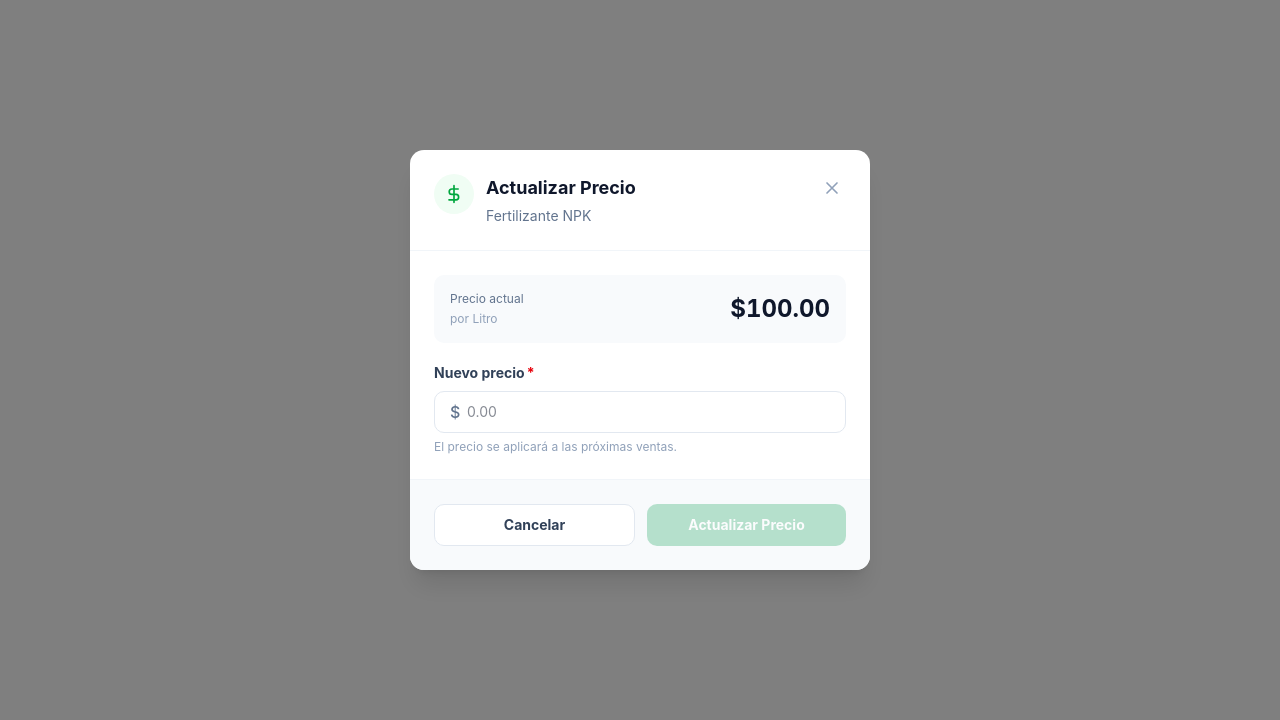
Scenario: NuevoPrecioModal › shows a price increase summary
In the number field: {"x": 640, "y": 412} top-left (434, 391), bottom-right (846, 433), type "150"
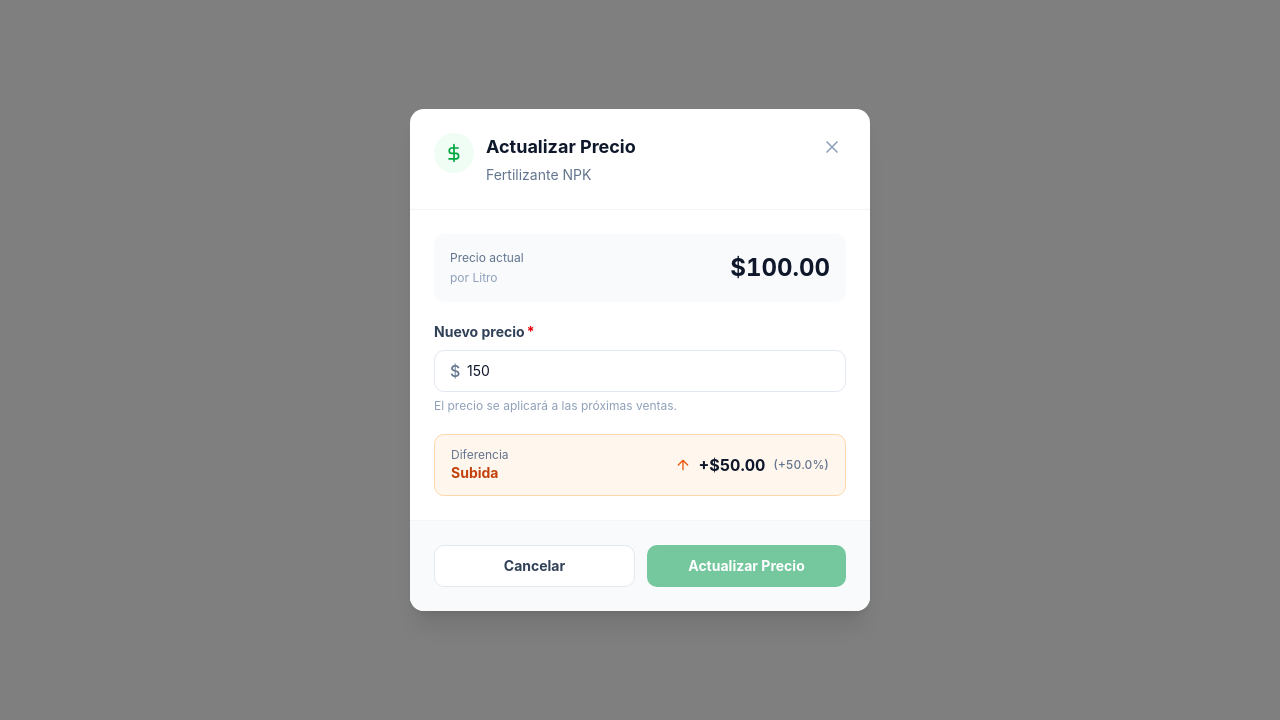
Expected: the text "Subida" is shown, top-left (451, 464), bottom-right (498, 481)
Expected: the text "+$50.00" is shown, top-left (699, 453), bottom-right (765, 477)
